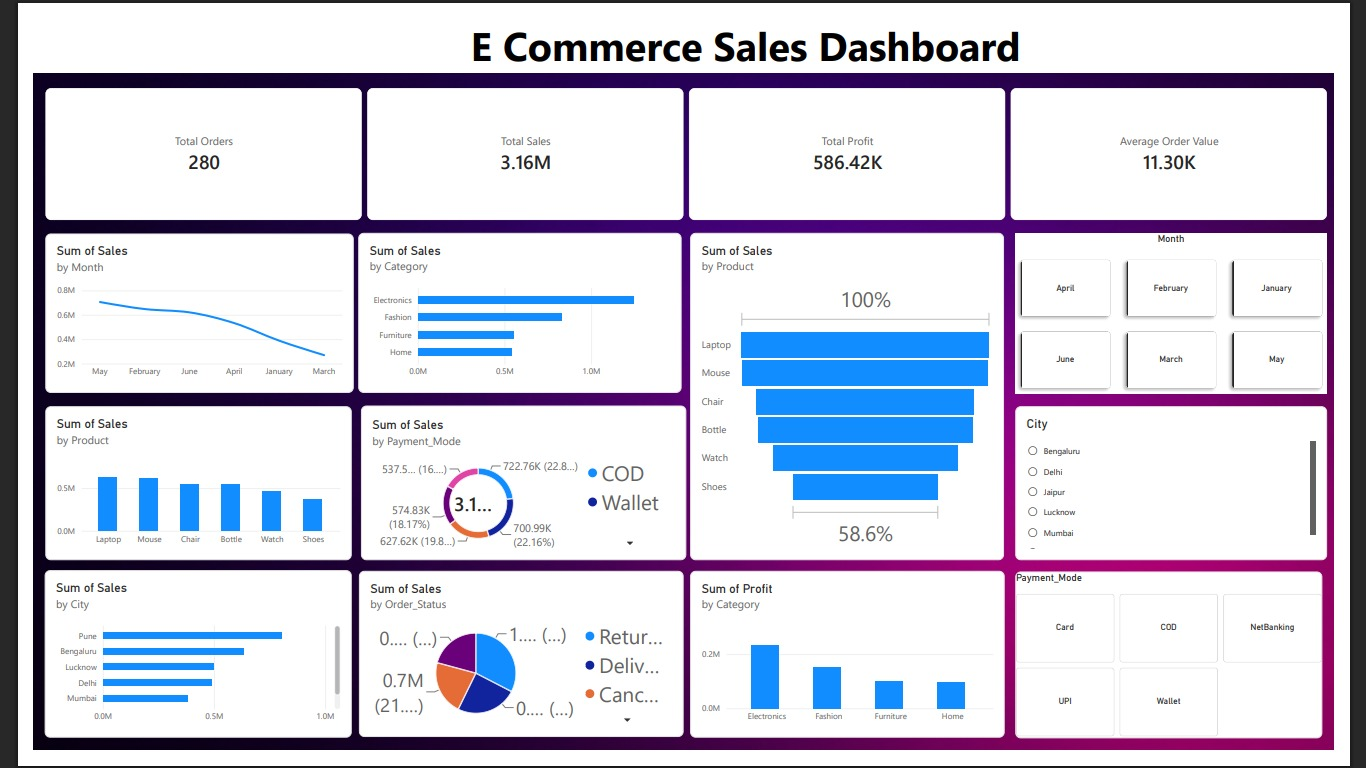

This screenshot's page, from the dashboard's own definition file:
{"tool":"powerbi","page":{"name":"Ecommerce","canvas":[1920,1080],"ordinal":0},"visuals":[{"type":"cardVisual","fields":{"Data":["Dax Measure.Total Orders","Dax Measure.Total Sales","Dax Measure.Total Profit","Dax Measure.Average Order Value"]},"box":[17.5,102.5,1892.5,195],"z":0},{"type":"textbox","box":[0,0,1920,80],"z":1000},{"type":"lineChart","fields":{"Category":["ecommerce orders (2).Month"],"Y":["Sum(ecommerce orders (2).Sales)"]},"box":[17.5,317.5,455,235],"z":2000},{"type":"barChart","fields":{"Category":["ecommerce orders (2).Category"],"Y":["Sum(ecommerce orders (2).Sales)"]},"box":[480,316.7,476.7,236.7],"z":3000},{"type":"columnChart","fields":{"Category":["ecommerce orders (2).Product"],"Y":["Sum(ecommerce orders (2).Sales)"]},"box":[17.5,572.5,452.5,227.5],"z":4000},{"type":"donutChart","fields":{"Category":["ecommerce orders (2).Payment_Mode"],"Y":["Sum(ecommerce orders (2).Sales)"]},"box":[483.5,572.2,480,227.5],"z":5000},{"type":"pieChart","fields":{"Category":["ecommerce orders (2).Order_Status"],"Y":["Sum(ecommerce orders (2).Sales)"]},"box":[481.4,815.7,478.6,245.7],"z":6000},{"type":"funnel","fields":{"Category":["ecommerce orders (2).Product"],"Y":["Sum(ecommerce orders (2).Sales)"]},"box":[970,316.7,463.3,483.3],"z":7000},{"type":"columnChart","fields":{"Category":["ecommerce orders (2).Category"],"Y":["Sum(ecommerce orders (2).Profit)"]},"box":[970,816,464,246],"z":8000},{"type":"advancedSlicerVisual","fields":{"Values":["ecommerce orders (2).Month"]},"box":[1450,317.5,460,237.5],"z":9000},{"type":"listSlicer","fields":{"Values":["ecommerce orders (2).City"]},"box":[1450,573.3,460,226.7],"z":10000},{"type":"advancedSlicerVisual","fields":{"Values":["ecommerce orders (2).Payment_Mode"]},"box":[1450,816.7,453.3,246.7],"z":10001},{"type":"clusteredBarChart","fields":{"Category":["ecommerce orders (2).City"],"Y":["Sum(ecommerce orders (2).Sales)"]},"box":[16.7,815.1,453.5,246.6],"z":10002}]}

Visuals, with their boxes in screenshot pixels (x1, y1, x2, y2), scaled from the page's 1920x1080 canvas onto the 1366x768 screenshot:
cardVisual - Dax Measure.Total Orders x Dax Measure.Total Sales: <region>12, 73, 1359, 212</region>
textbox: <region>0, 0, 1365, 57</region>
lineChart - ecommerce orders (2).Month x Sum(ecommerce orders (2).Sales): <region>12, 226, 336, 393</region>
barChart - ecommerce orders (2).Category x Sum(ecommerce orders (2).Sales): <region>342, 225, 681, 394</region>
columnChart - ecommerce orders (2).Product x Sum(ecommerce orders (2).Sales): <region>12, 407, 334, 569</region>
donutChart - ecommerce orders (2).Payment_Mode x Sum(ecommerce orders (2).Sales): <region>344, 407, 685, 569</region>
pieChart - ecommerce orders (2).Order_Status x Sum(ecommerce orders (2).Sales): <region>342, 580, 683, 755</region>
funnel - ecommerce orders (2).Product x Sum(ecommerce orders (2).Sales): <region>690, 225, 1020, 569</region>
columnChart - ecommerce orders (2).Category x Sum(ecommerce orders (2).Profit): <region>690, 580, 1020, 755</region>
advancedSlicerVisual - ecommerce orders (2).Month: <region>1032, 226, 1359, 395</region>
listSlicer - ecommerce orders (2).City: <region>1032, 408, 1359, 569</region>
advancedSlicerVisual - ecommerce orders (2).Payment_Mode: <region>1032, 581, 1354, 756</region>
clusteredBarChart - ecommerce orders (2).City x Sum(ecommerce orders (2).Sales): <region>12, 580, 335, 755</region>
